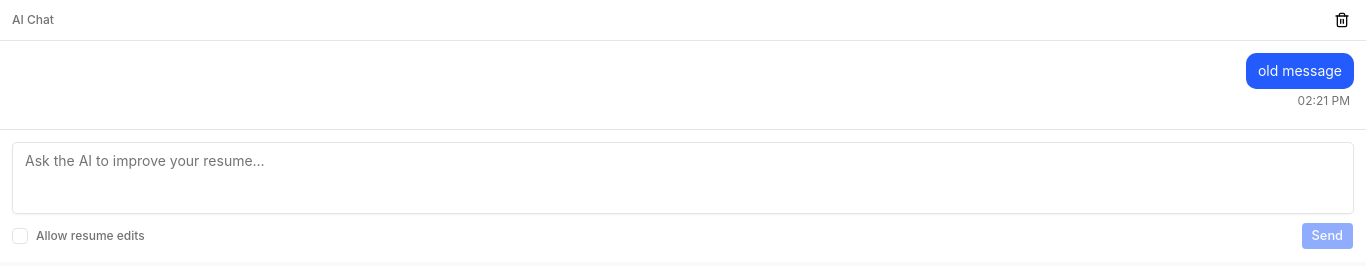
ChatPanel › clear session button clears messages and issues a DELETE for the conversation
Expected: the text "old message" is shown, x1=1246 y1=53 x2=1354 y2=89
Click the button named "clear chat session".
click(1342, 20)  # box x1=1330 y1=8 x2=1354 y2=32
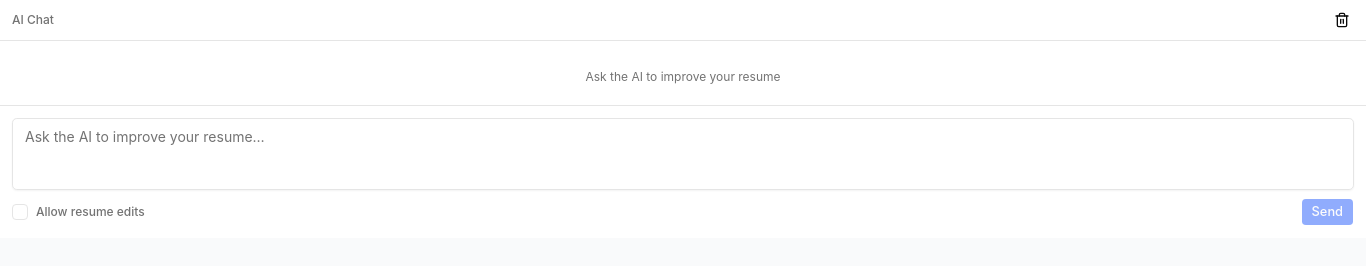
Result: the text "old message" is gone
